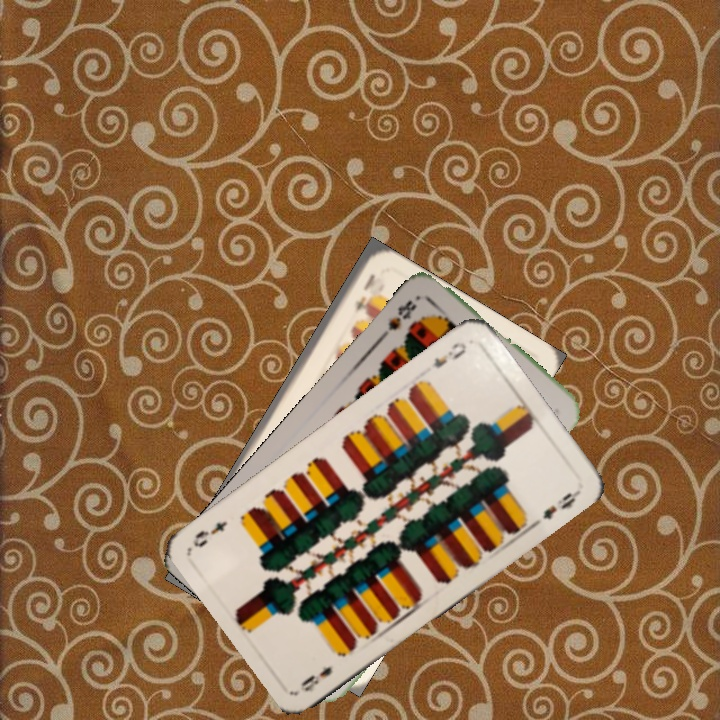E10: (350, 269, 378, 317)
E9: (429, 337, 469, 371), (296, 662, 335, 695)
S8: (378, 296, 420, 340)
